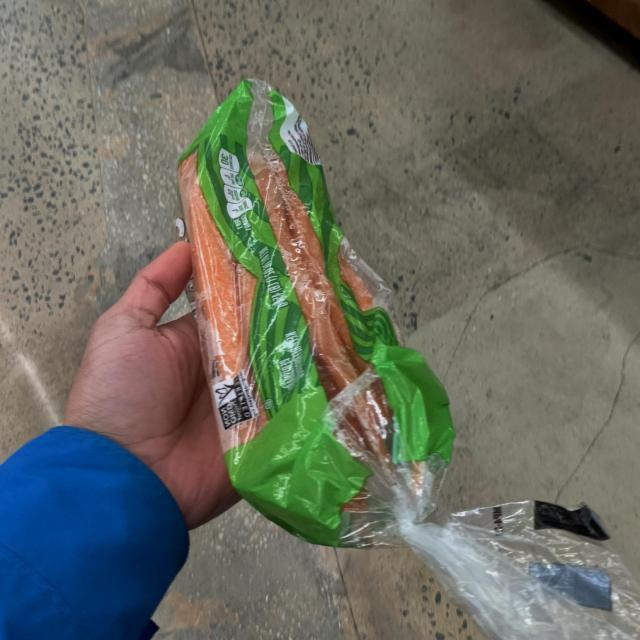carrot: (170, 80, 438, 534)
